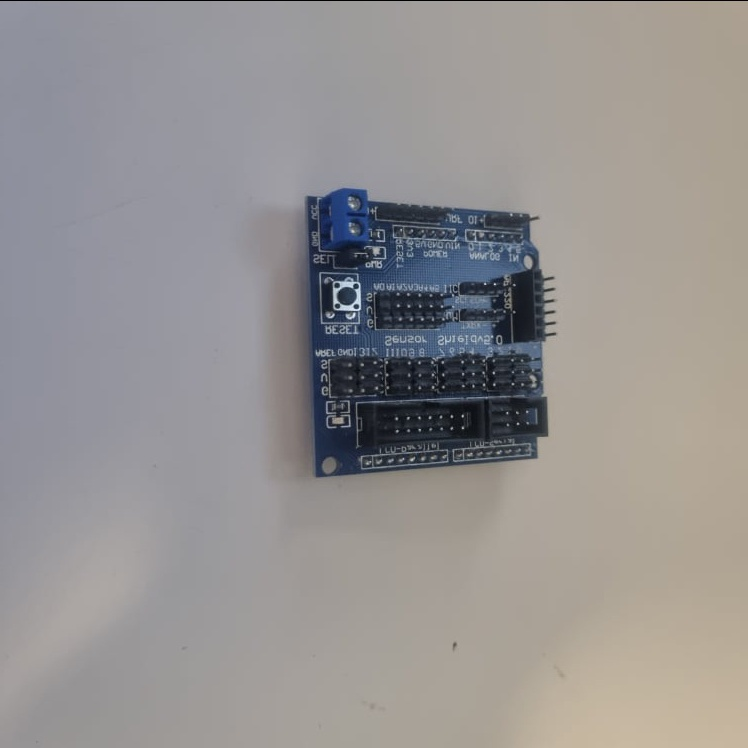5V EXPANSION: (307, 182, 562, 480)
